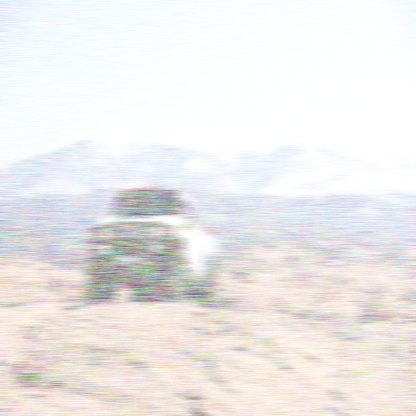Vehicle: (87, 184, 218, 304)
